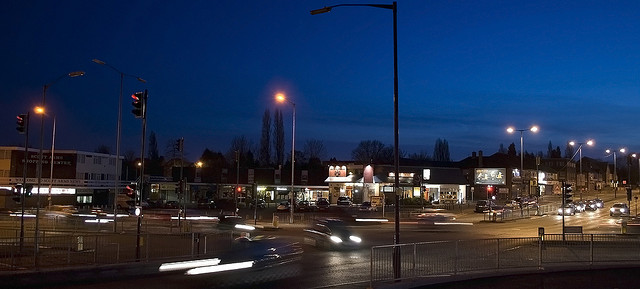Car: (309, 216, 366, 257), (609, 204, 629, 219)
Traffic light: (128, 89, 152, 145), (562, 179, 570, 214)
